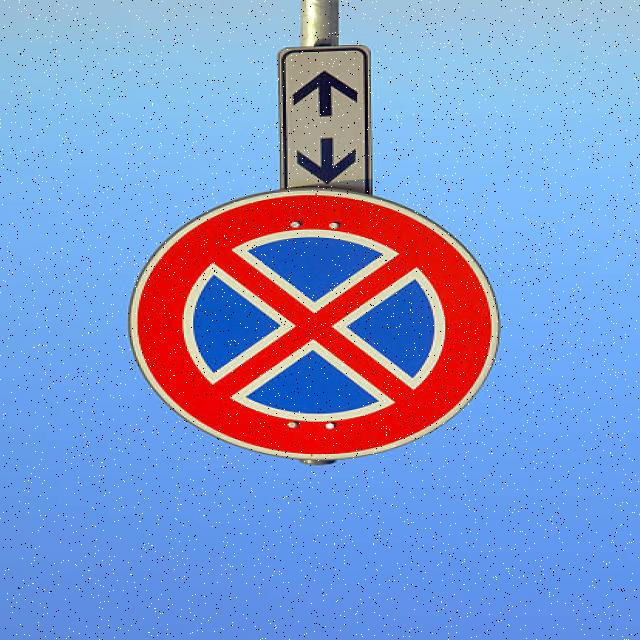no_parking: (110, 181, 513, 463)
